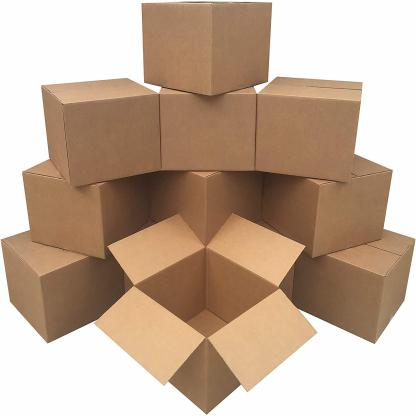box: (41, 76, 160, 189), (141, 2, 271, 96), (256, 76, 364, 183), (158, 86, 256, 172)
